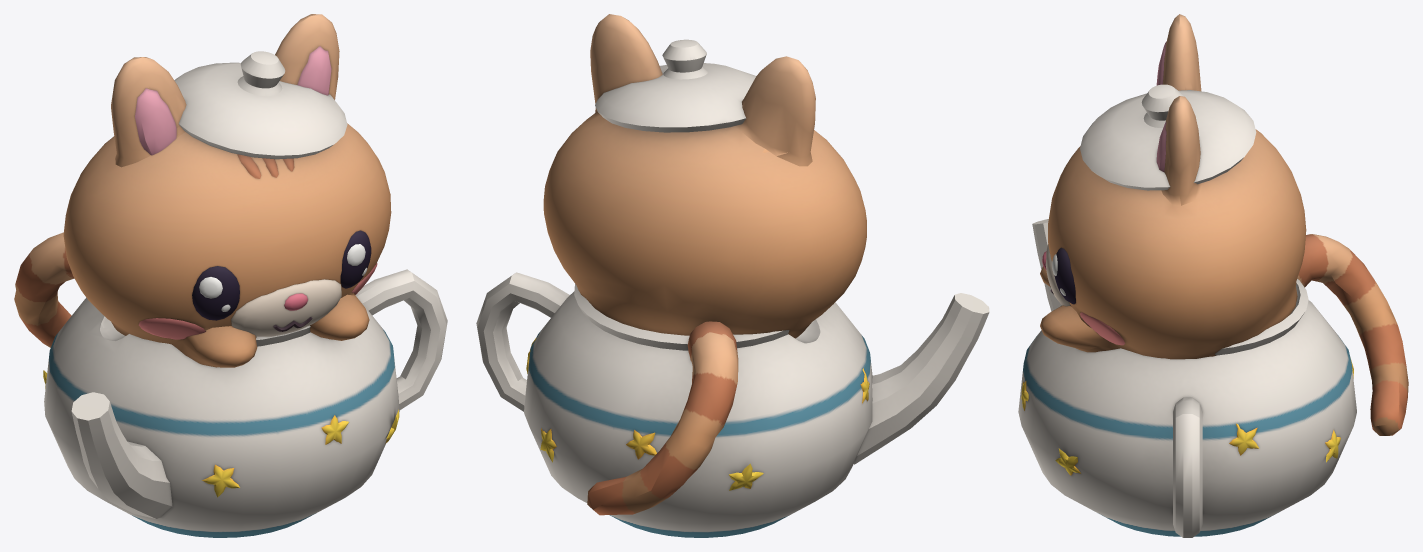
Rendered from critter_teapotcat.fbx.
3 renders of one model, left to right at view 1: azimuth 30°, elevation 25°; view 2: azimuth 150°, elevation 25°; view 3: azimuth 270°, elevation 25°, orthographic. The views are drawn at different scales.
Parts seen in each view (by area): view 1: critter_teapotcat; view 2: critter_teapotcat; view 3: critter_teapotcat.
Boxes of the visible parts, box(x1,y1,x2,y2) form: critter_teapotcat: box(14, 14, 447, 537); critter_teapotcat: box(476, 14, 989, 537); critter_teapotcat: box(1018, 14, 1408, 537).
Bounding box in the file's own units: 280 × 280 × 225.
1 material, 1 textured.
